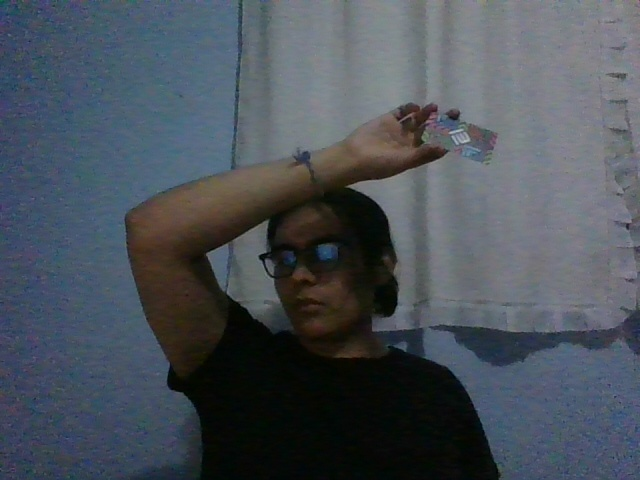tarjeta: (420, 112, 499, 165)
